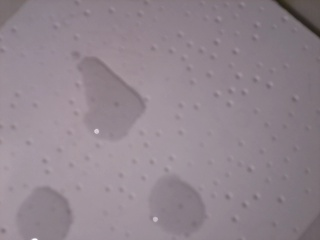Water_detected: (79, 70, 132, 132), (150, 180, 190, 222), (32, 198, 63, 237)
